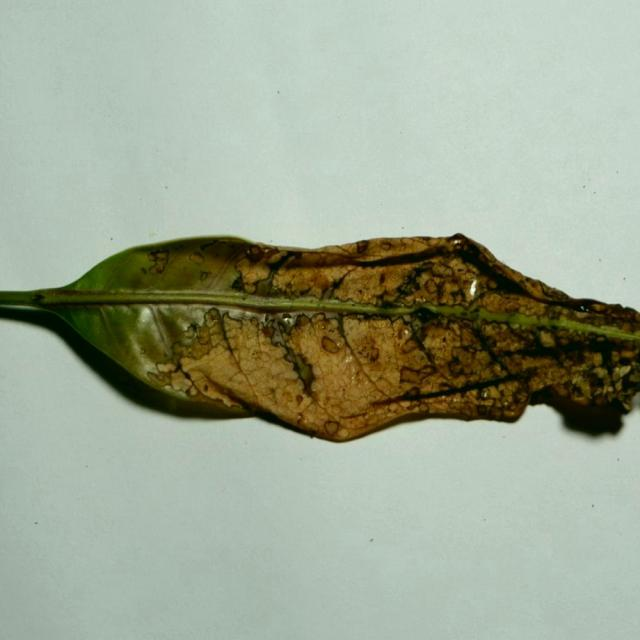Anthracnose: (454, 248, 631, 319), (489, 319, 633, 399), (338, 319, 396, 400), (376, 374, 522, 405), (465, 319, 508, 378), (403, 321, 443, 377), (195, 375, 255, 411), (280, 346, 317, 399), (261, 250, 297, 286), (250, 265, 284, 294), (325, 269, 354, 297), (407, 313, 430, 347), (199, 270, 211, 281)
Mango: (0, 235, 639, 446)
